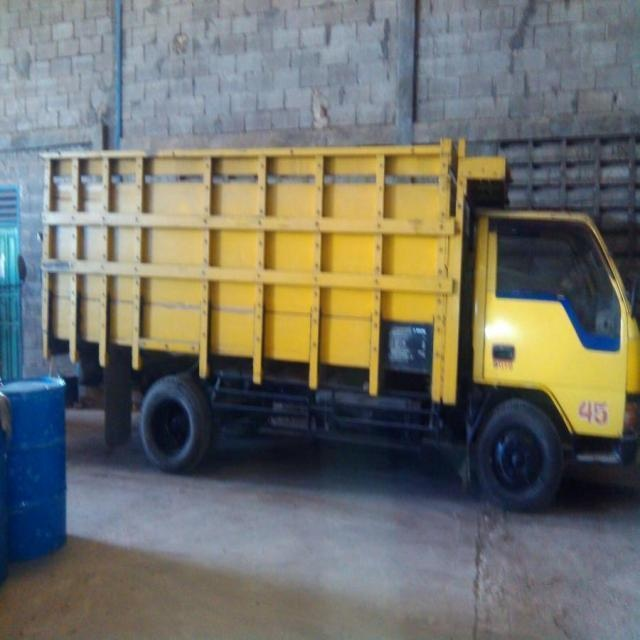Truck: (36, 145, 640, 504)
